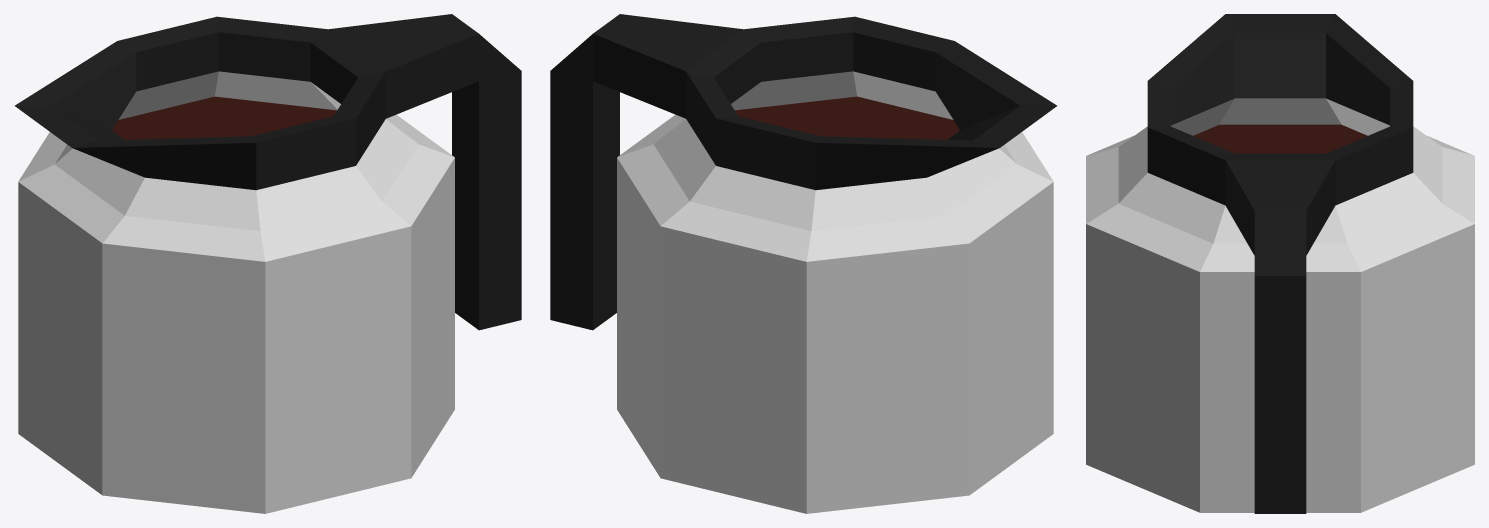
File: coffee_pot.fbx
The picture shows the model from 3 angles, left to right: view 1: azimuth 30°, elevation 25°; view 2: azimuth 150°, elevation 25°; view 3: azimuth 270°, elevation 25°; orthographic projection. The views are drawn at different scales.
Parts seen in each view (by area): view 1: Coffee Pot, Coffee; view 2: Coffee Pot, Coffee; view 3: Coffee Pot, Coffee.
Boxes of the visible parts, bbox=[...] form: Coffee Pot: bbox=[14, 14, 521, 513]; Coffee: bbox=[112, 96, 336, 139]; Coffee Pot: bbox=[550, 14, 1057, 513]; Coffee: bbox=[735, 96, 959, 139]; Coffee Pot: bbox=[1086, 14, 1474, 513]; Coffee: bbox=[1193, 124, 1367, 153].
Bounding box in the file's own units: 72.94 × 55.31 × 52.55.
